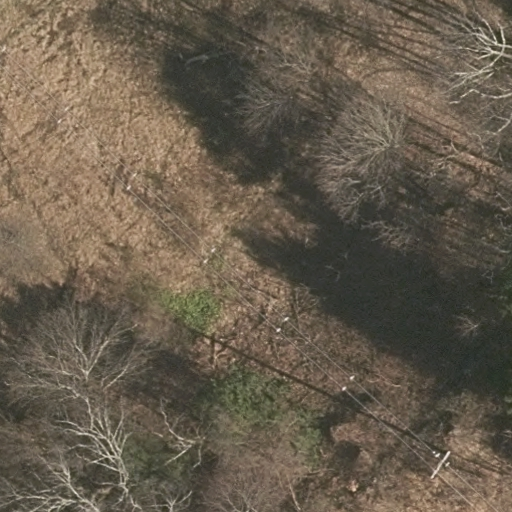DT: (429, 449, 454, 480)
